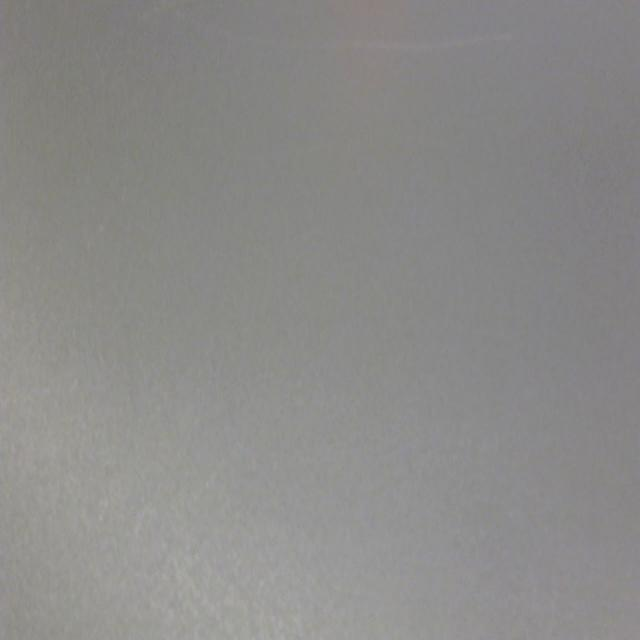negative: (1, 2, 637, 640)
